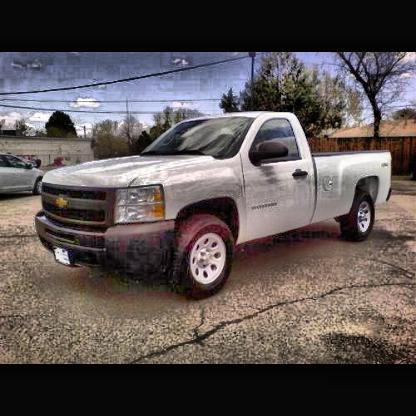Chevrolet Silverado 2500HD Regular Cab 2012: (36, 113, 393, 301)
